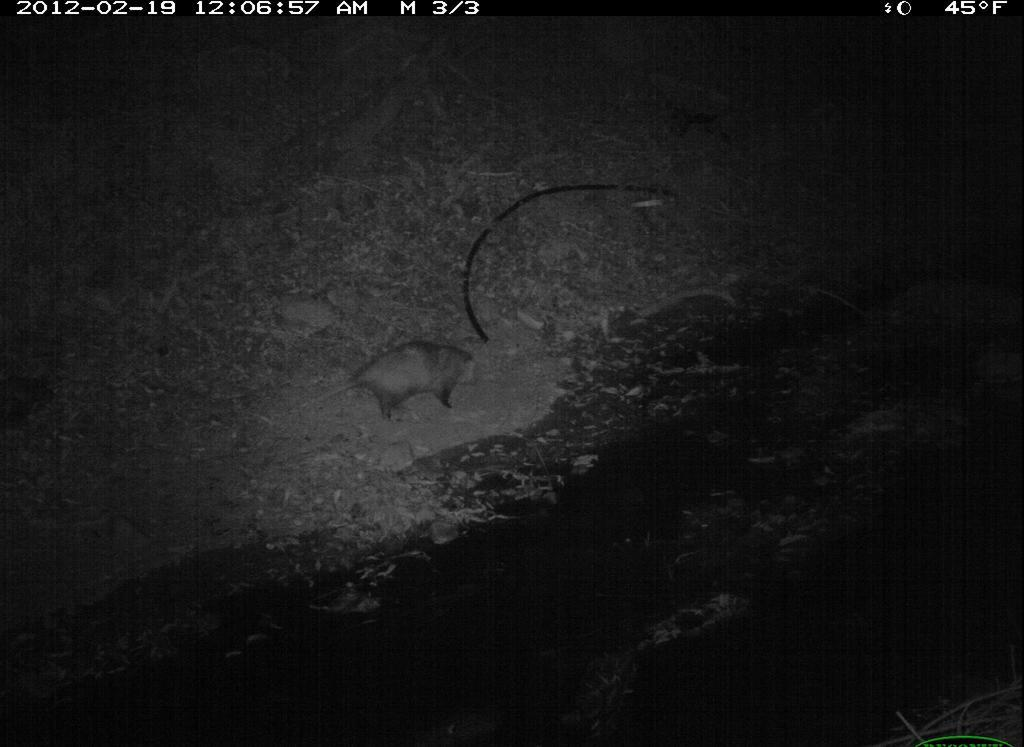opossum: (292, 331, 488, 420)
